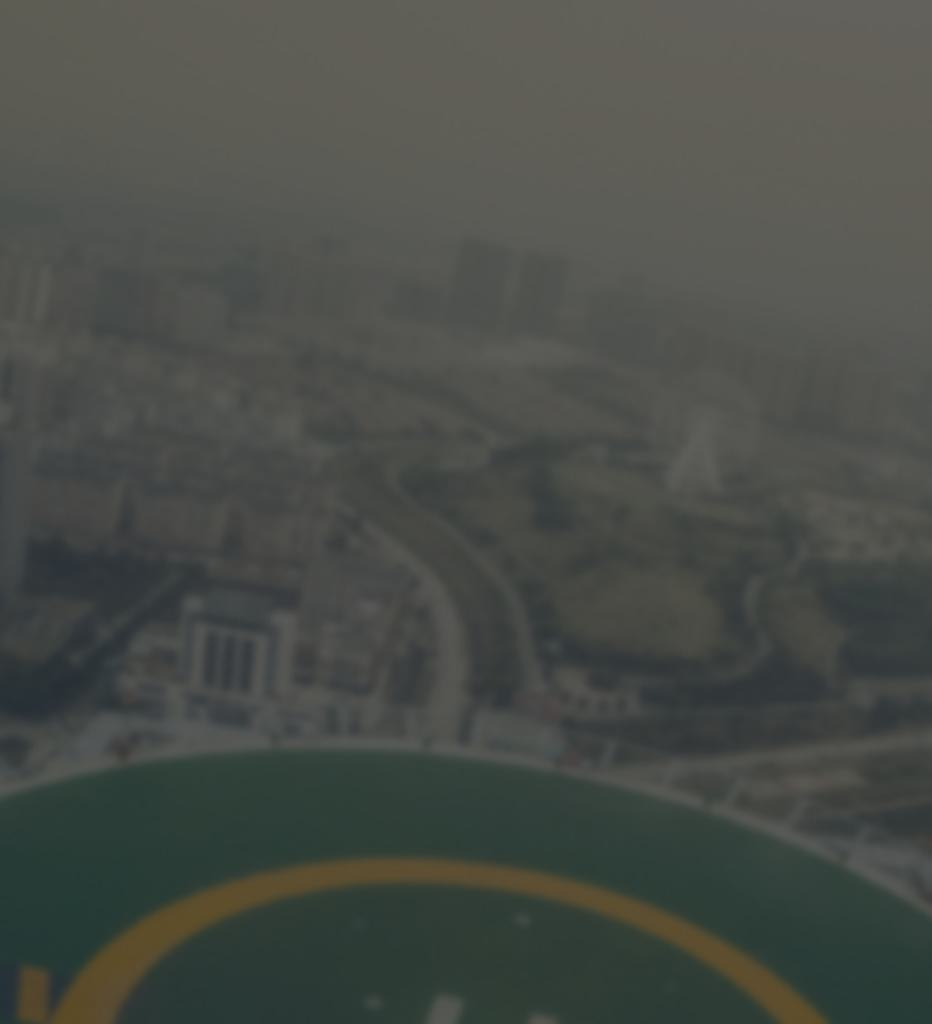Apron: (52, 846, 889, 1023)
